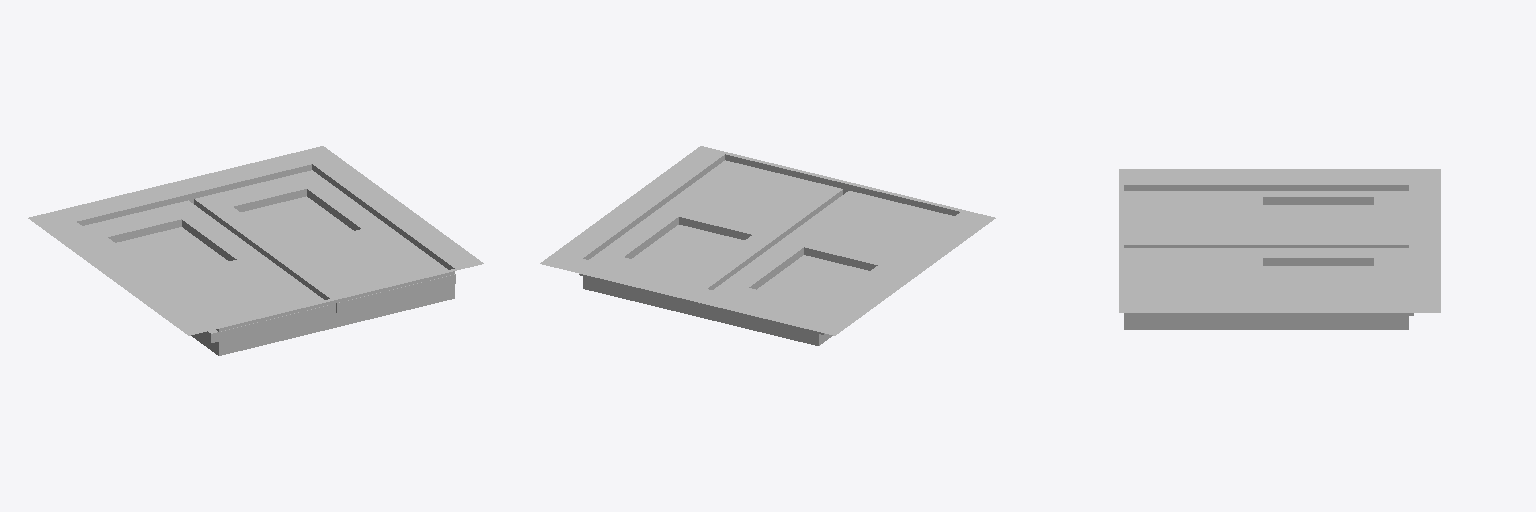
Rendered from door3.obj.
The picture shows the model from 3 angles: view 1: azimuth 30°, elevation 25°; view 2: azimuth 150°, elevation 25°; view 3: azimuth 270°, elevation 25°; orthographic projection.
Parts seen in each view (by area): view 1: door4:pPlane5, door4:pCube6, pCube11; view 2: door4:pPlane5, door4:pCube6, pCube11; view 3: door4:pPlane5, pCube11, door4:pCube6.
Boxes of the visible parts, x1=… form: door4:pPlane5: x1=28, y1=146, x2=483, y2=355; door4:pCube6: x1=194, y1=170, x2=455, y2=312; pCube11: x1=83, y1=200, x2=330, y2=342; door4:pPlane5: x1=540, y1=146, x2=995, y2=345; door4:pCube6: x1=579, y1=160, x2=842, y2=303; pCube11: x1=704, y1=191, x2=954, y2=334; door4:pPlane5: x1=1119, y1=169, x2=1440, y2=329; pCube11: x1=1124, y1=191, x2=1408, y2=247; door4:pCube6: x1=1124, y1=248, x2=1413, y2=315.
Bounding box in the file's own units: 1.06 × 0.1035 × 1.